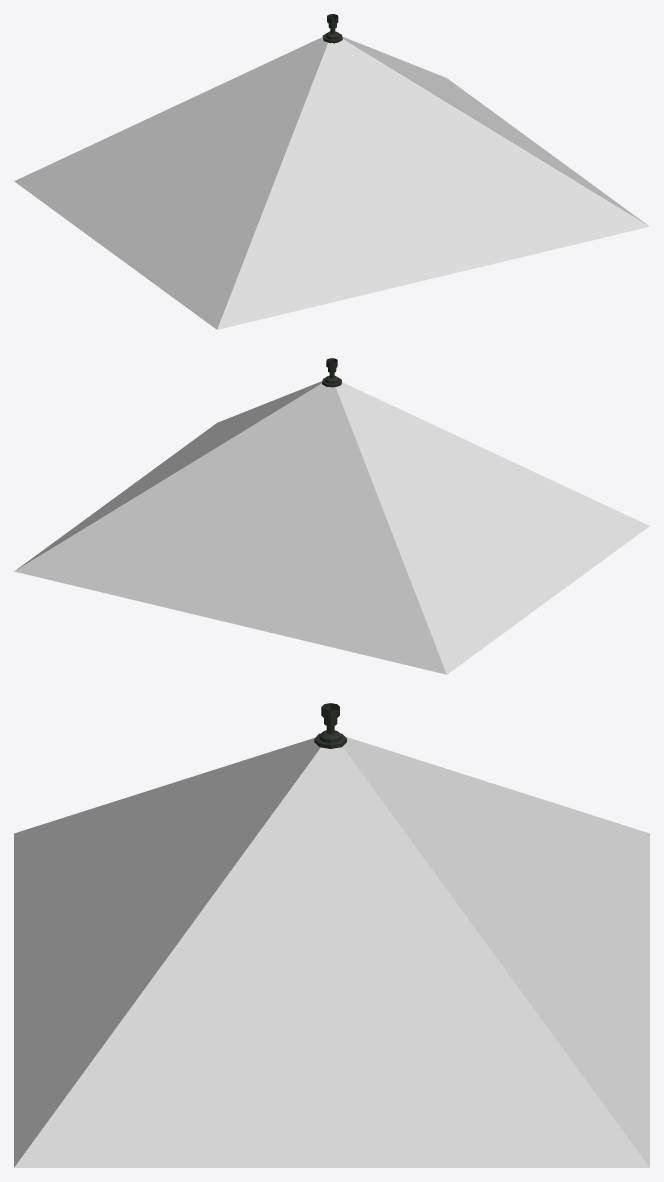
The model's file is steam_lamp.fbx.
3 renders of one model, top to bottom at view 1: azimuth 30°, elevation 25°; view 2: azimuth 150°, elevation 25°; view 3: azimuth 270°, elevation 25°, orthographic. The views are drawn at different scales.
Visible parts, largest first — view 1: lights.001; view 2: lights.001; view 3: lights.001, lamp.002.
Boxes of the visible parts, x1,y1,x2,y2 form: lights.001: (14, 36, 649, 329); lights.001: (14, 381, 649, 674); lights.001: (14, 736, 649, 1167); lamp.002: (314, 703, 346, 748).
Bounding box in the file's own units: 4.27 × 3.47 × 1.78.
3 materials, 1 textured.
